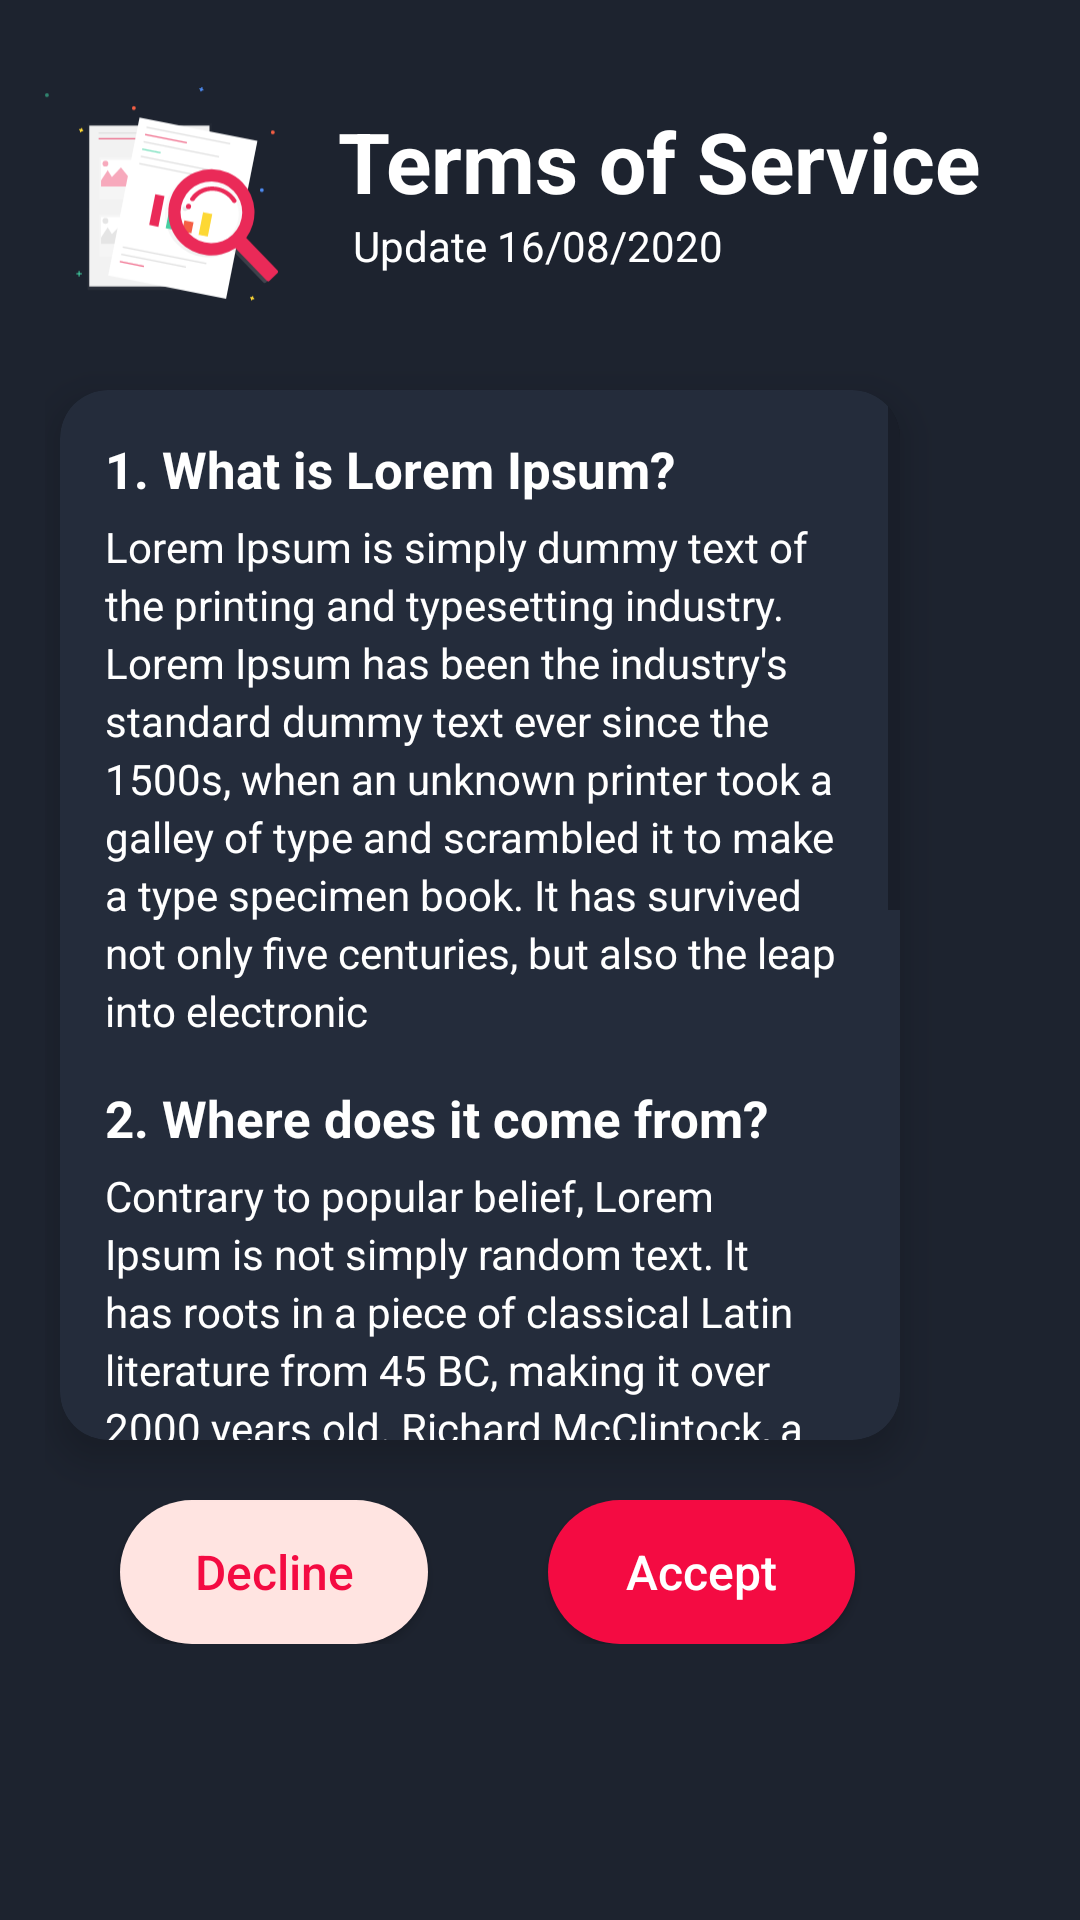

Icons on this 1080*1920 Android screen, each with the point to tap as (x=x, y=y):
documents terms: (x=161, y=194)
